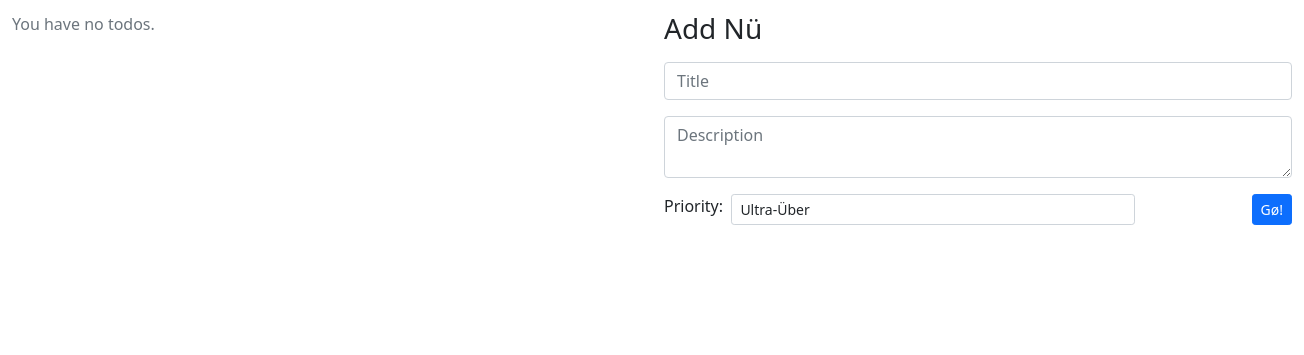
Scenario: Test that EDIT todo works
This screenshot has width=1304, height=355.
Step 1. Type "test title" into the field with id "newTodo-title" → (978, 81), box 664,62 -> 1292,100
Step 2. Type "test description" into the text box with id "newTodo-description" → (978, 147), box 664,116 -> 1292,178
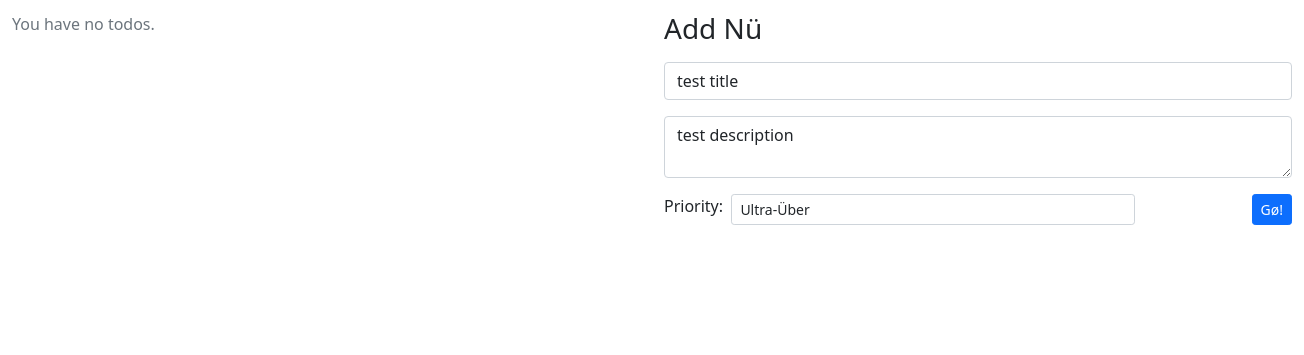
Step 3. Select "Über" in the dropdown with id "newTodo-priority" → (933, 209), box 731,194 -> 1135,225
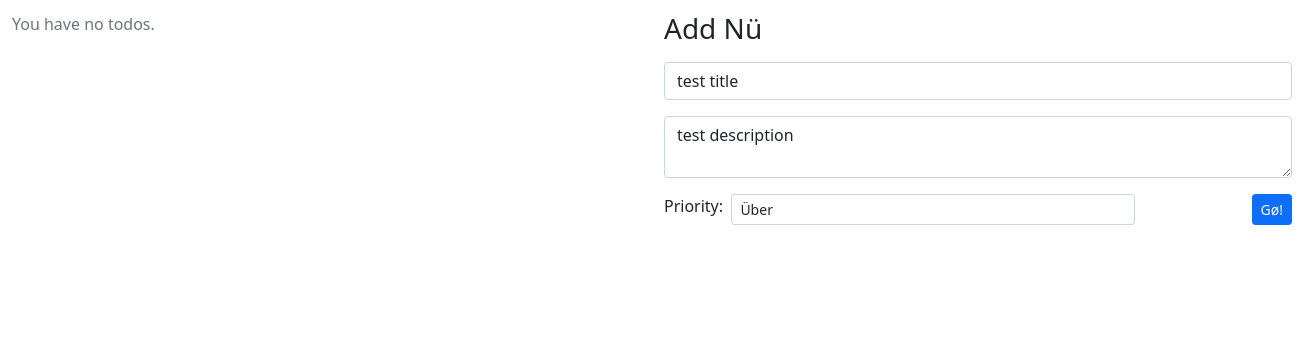
Step 4. Submit the form from the button with class "NewTodoForm-addBtn", box 1252,194 -> 1292,225
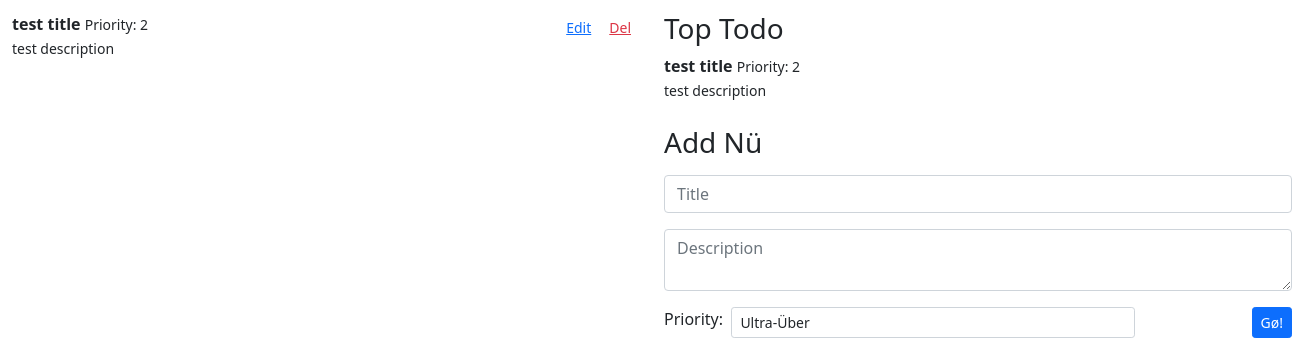
Expected: the text "You have no todos." is gone
Expected: the text "test title" is shown, 12,13 -> 81,35
Step 5. Click the button with class "EditableTodo-toggle" → click(579, 28), box 557,12 -> 600,43
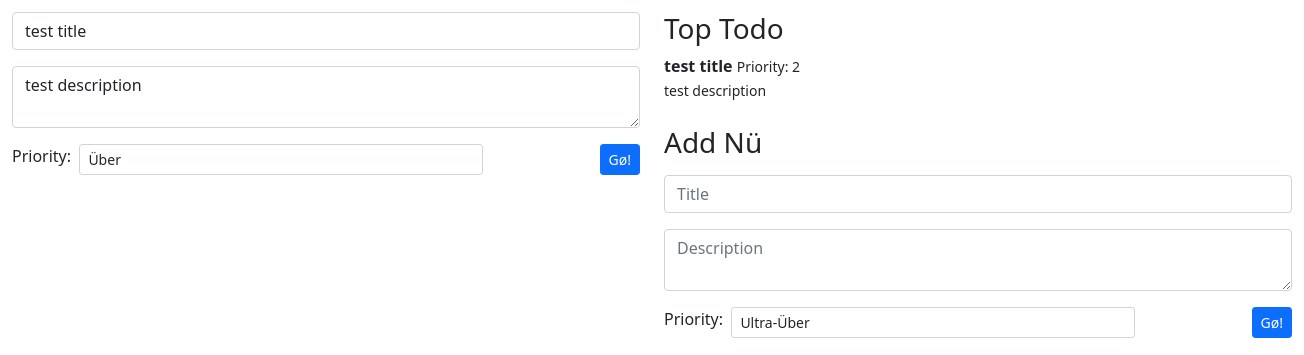
Step 6. Replace the text in the field with id "newTodo-title" with "edited title" → (326, 31), box 12,12 -> 640,50
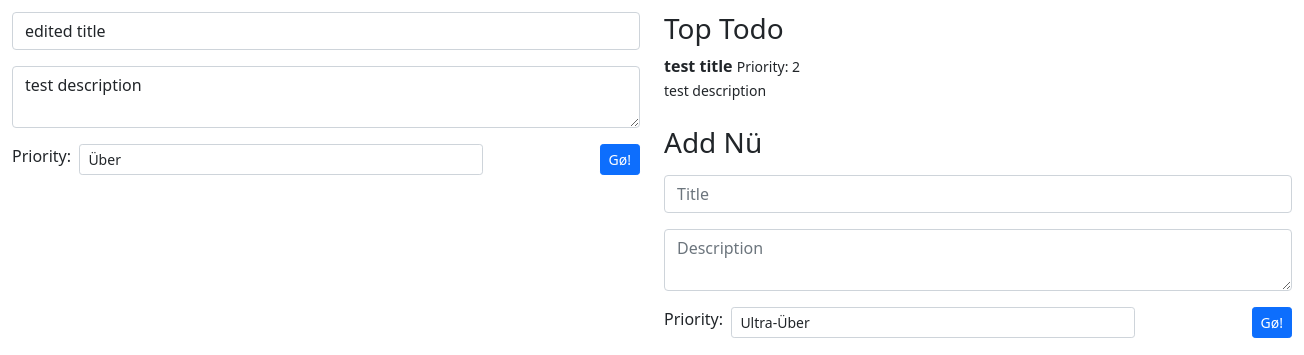
Step 7. Submit the form from the 1st button with class "NewTodoForm-addBtn", box 600,144 -> 640,175
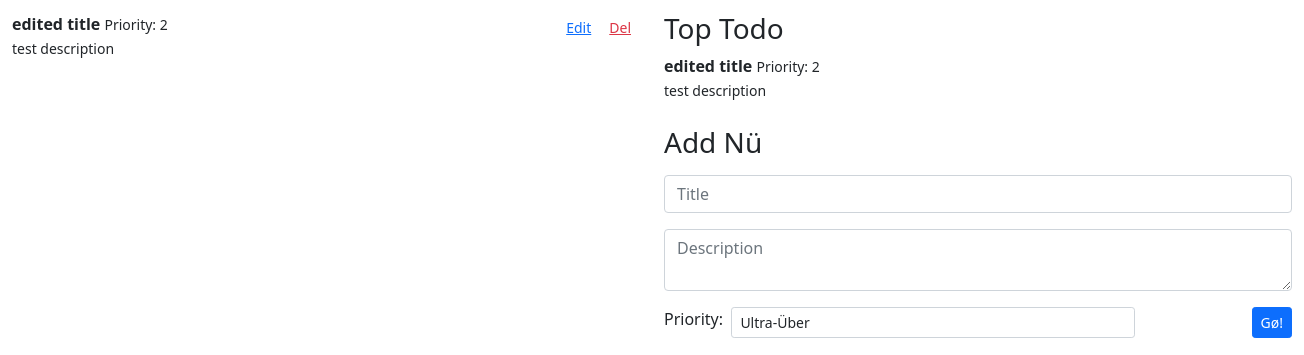
Expected: the text "edited title" is shown, 12,13 -> 100,35
Expected: the text "test title" is gone
